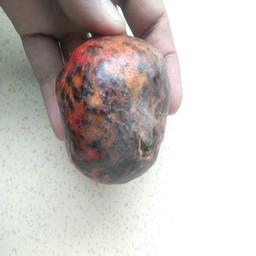Bad_pomegranate: (53, 29, 173, 194)
